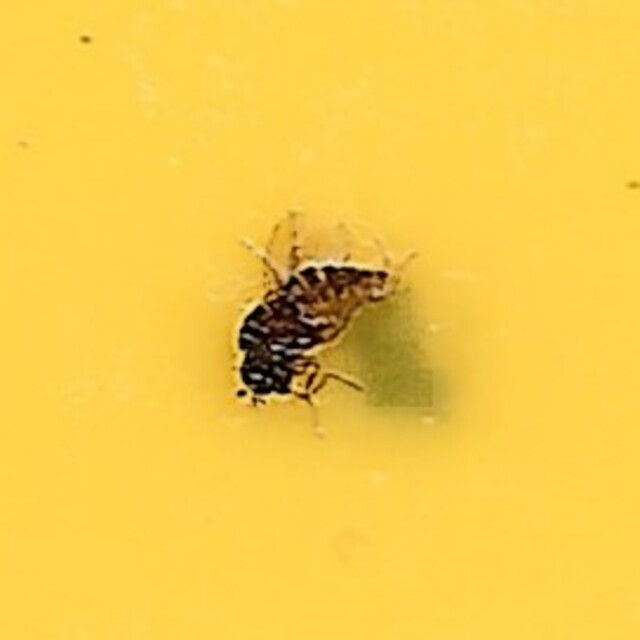Brachycera: (235, 222, 405, 418)
